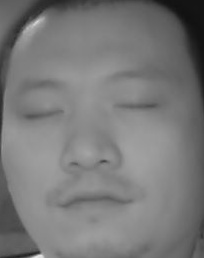blink: (115, 98, 156, 118), (23, 103, 63, 123)
mouth: (55, 183, 133, 220)
